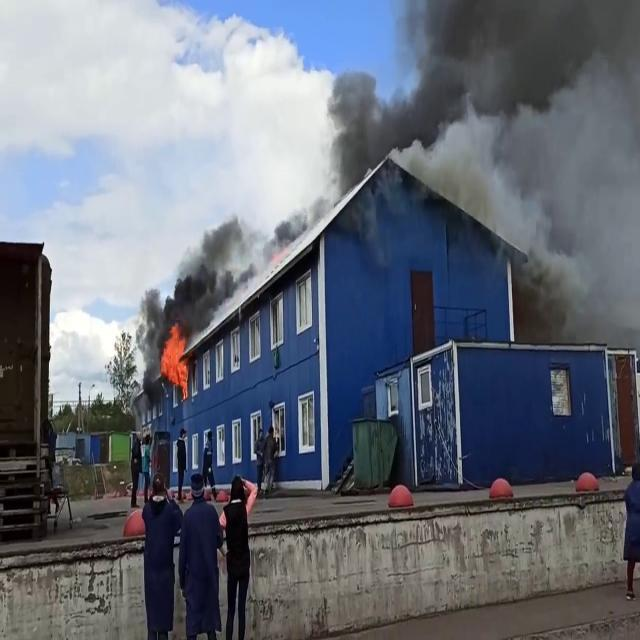Fire: (158, 321, 192, 398)
Smoke: (320, 0, 640, 322), (166, 193, 266, 339)
